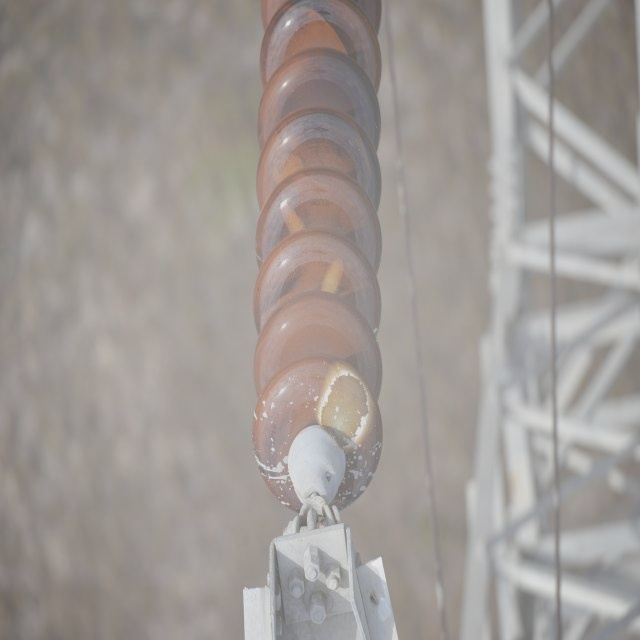insulator: (252, 0, 388, 511)
